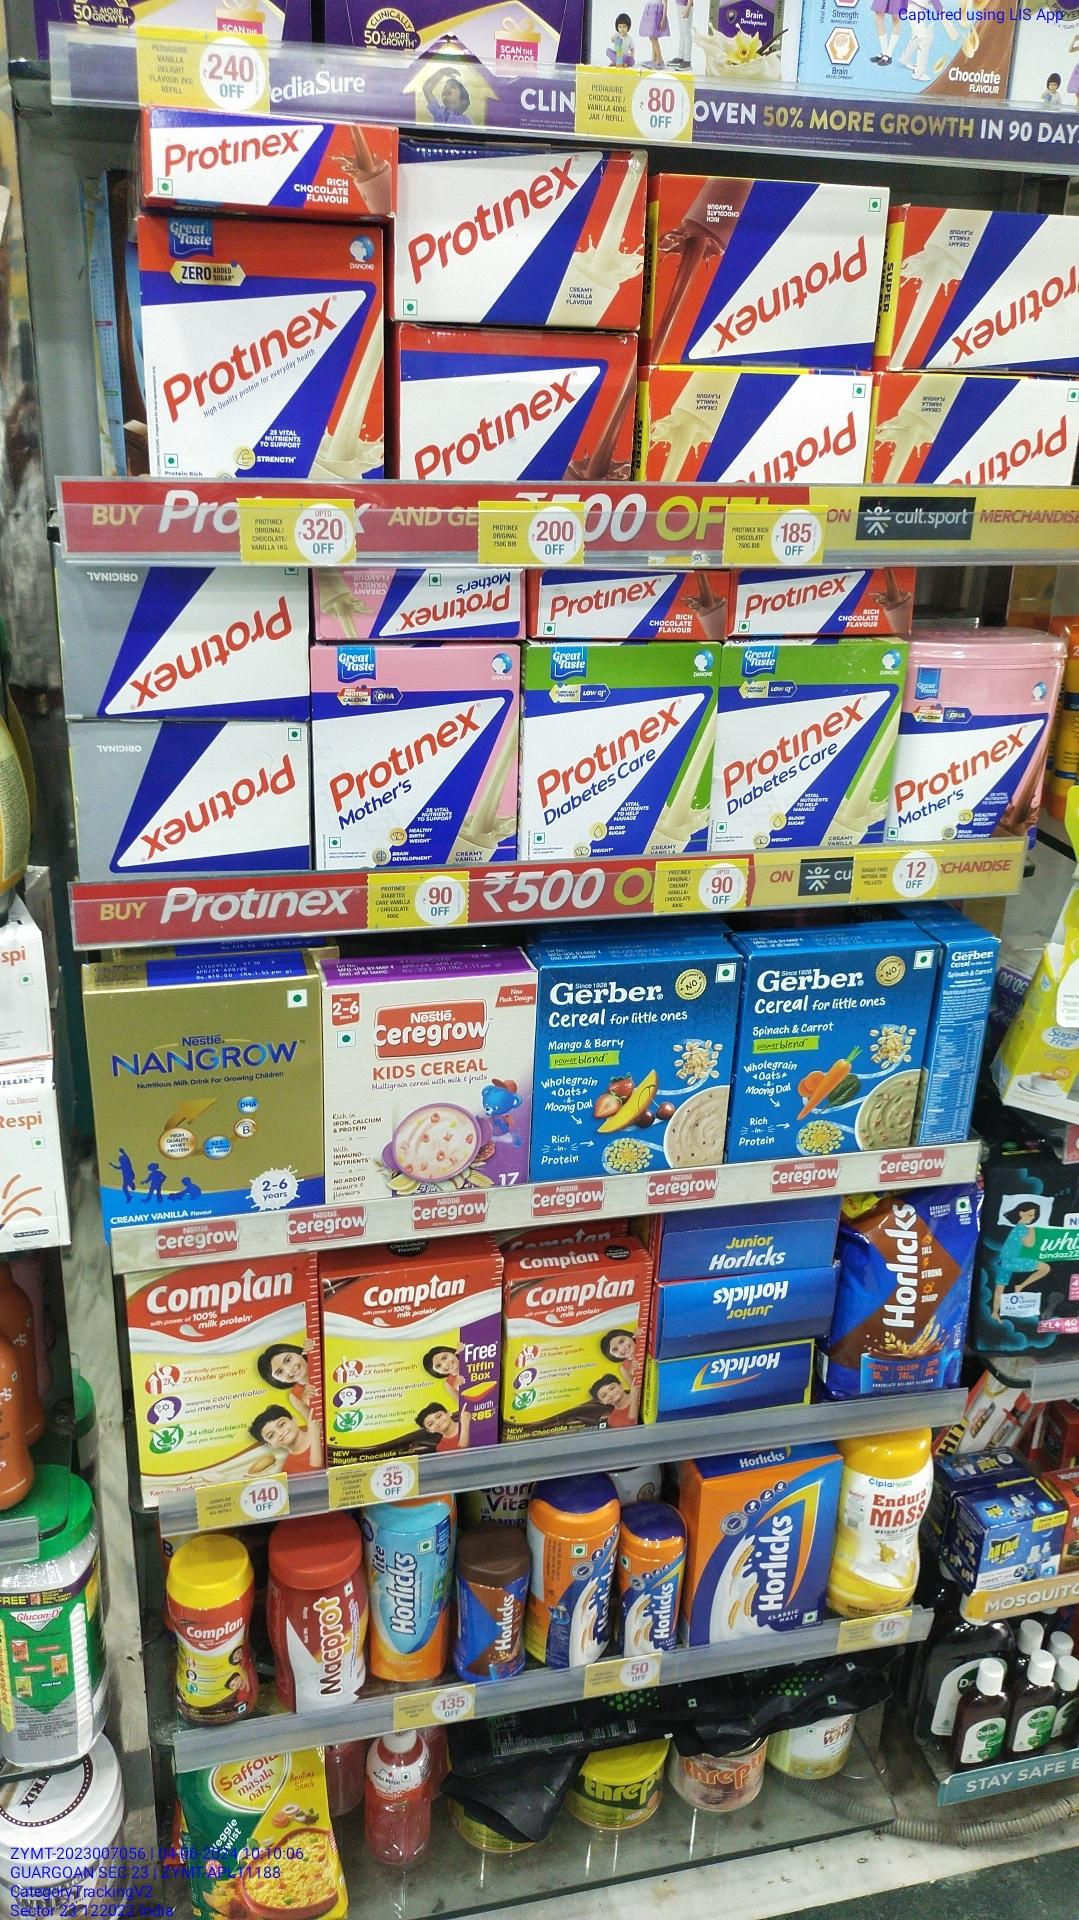HORLICKS_LITE_REGULAR_MALT_500_GM_JAR: (368, 1486, 455, 1689)
